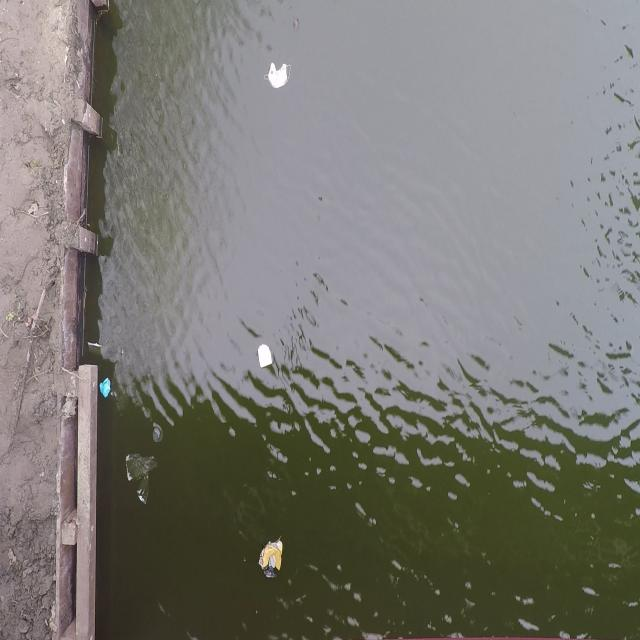Non plastique: (260, 54, 294, 101)
Sac plastique: (122, 448, 159, 514), (252, 533, 288, 590)
